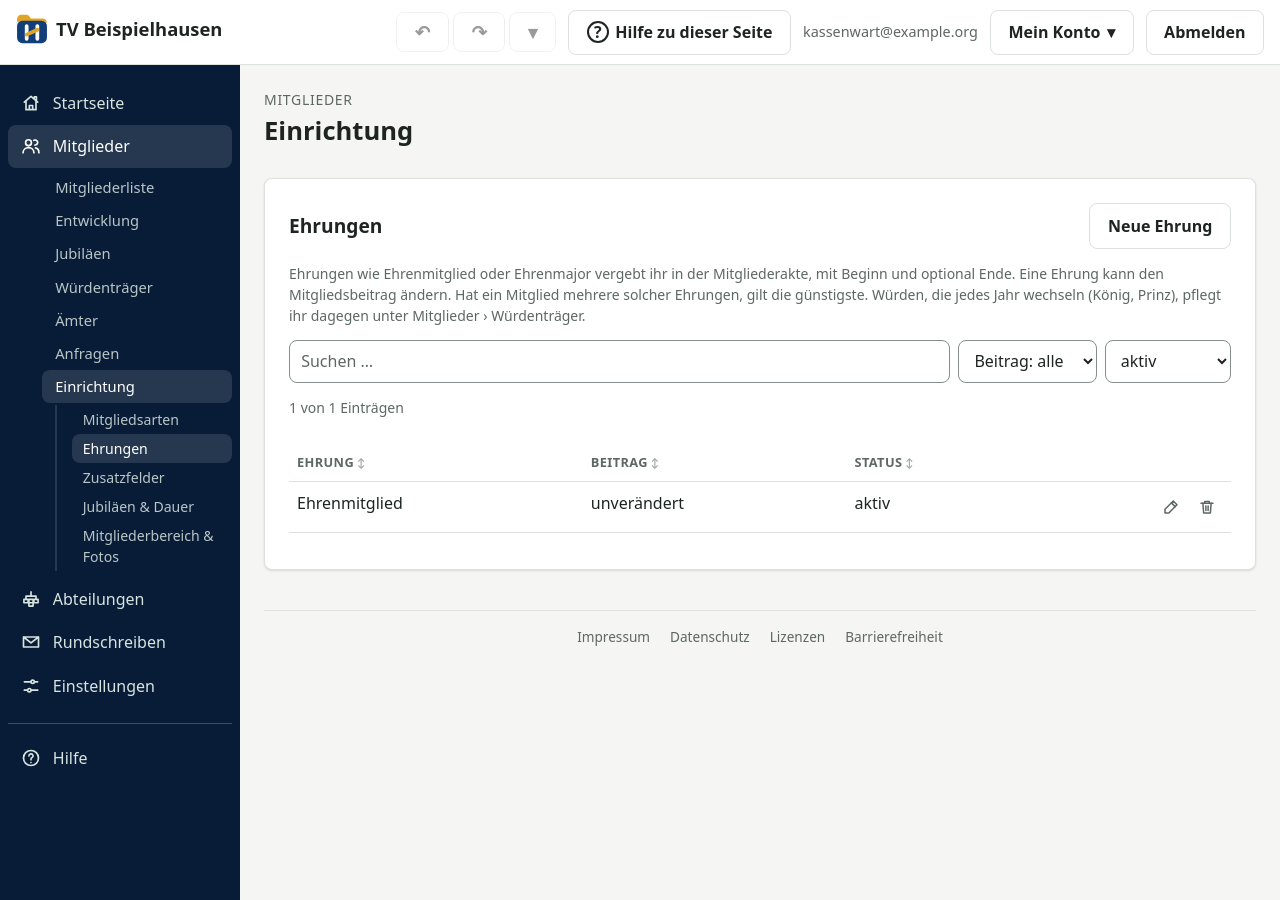
Test: Ehrungen einrichten › archiviert einen verliehenen Titel nach Rückfrage
Click the button named "Ehrenmitglied löschen": (1207, 507) 1191,491 -> 1223,523
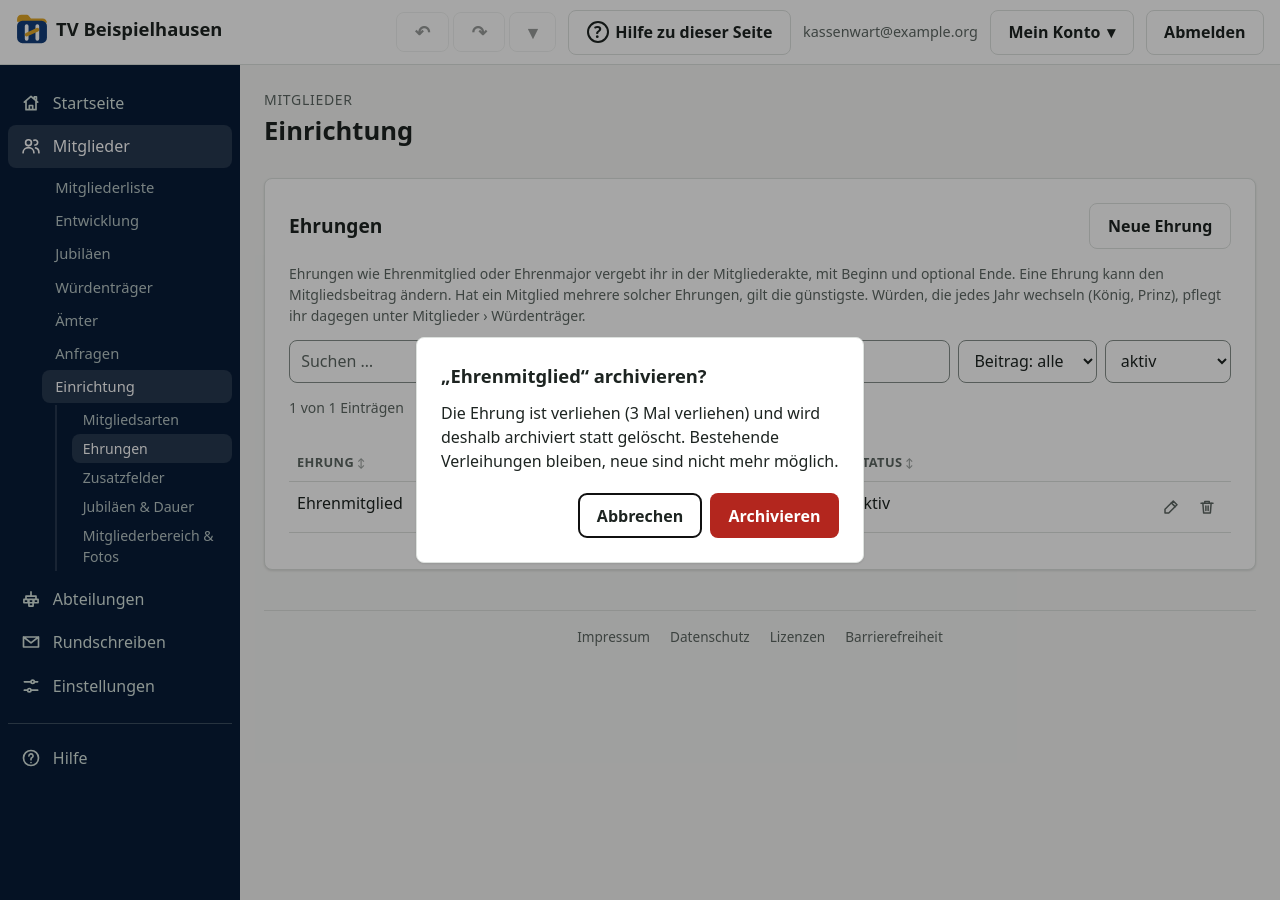
Click the button "Archivieren": (774, 516) 710,493 -> 839,538
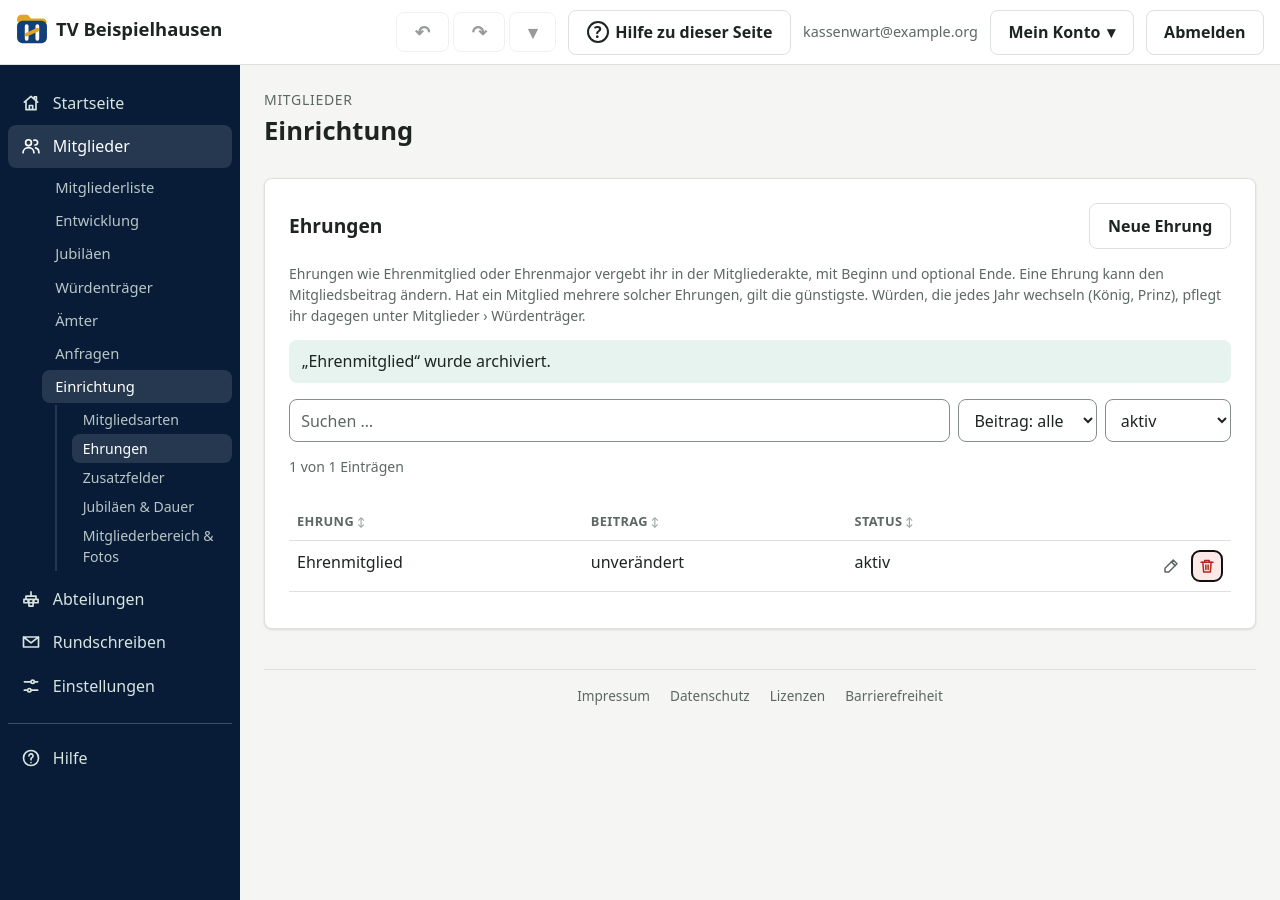
Now the text "„Ehrenmitglied“ wurde archiviert." is shown, box 289,340 -> 1231,383
